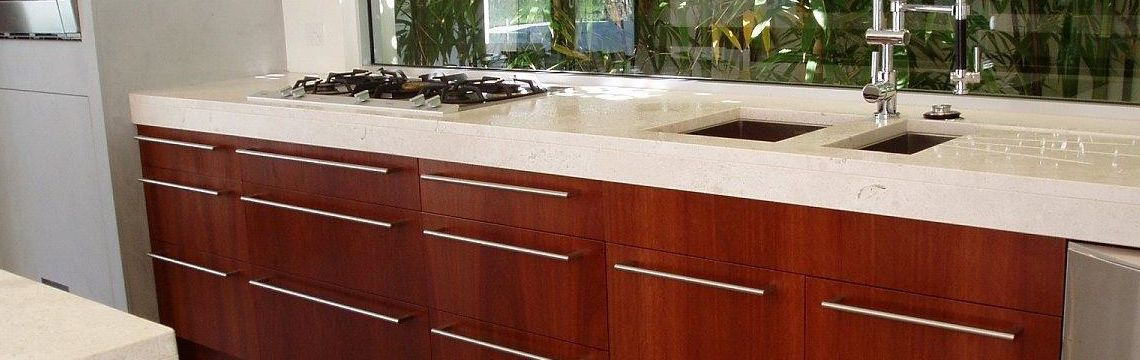cabinet door: (612, 245, 809, 360), (406, 229, 614, 320), (251, 194, 418, 298), (823, 291, 1060, 360), (412, 168, 628, 225), (241, 292, 399, 359), (403, 313, 603, 360), (150, 258, 253, 345), (254, 144, 419, 196), (133, 182, 252, 254), (138, 132, 276, 176)
handle: (821, 299, 1022, 342), (248, 278, 406, 325), (608, 260, 765, 297), (235, 193, 391, 228), (419, 229, 571, 261), (427, 324, 557, 360), (419, 172, 573, 200), (238, 146, 387, 174), (144, 248, 224, 278), (140, 175, 220, 197), (133, 134, 216, 152)
